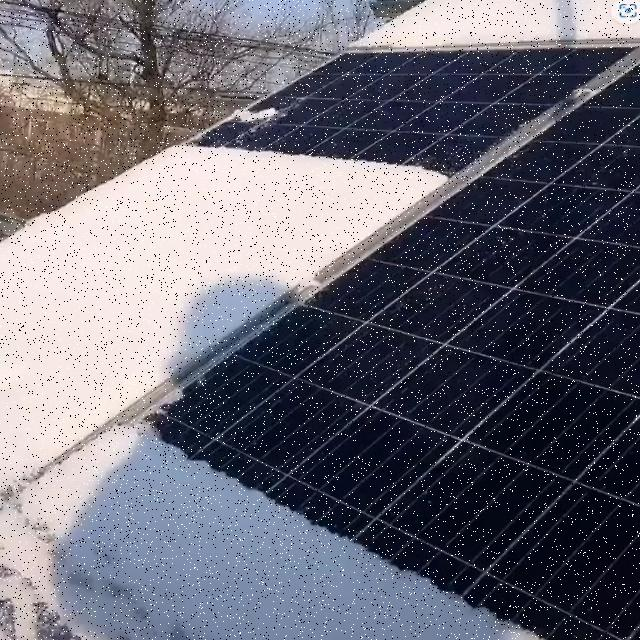snow covered: (4, 49, 634, 501)
